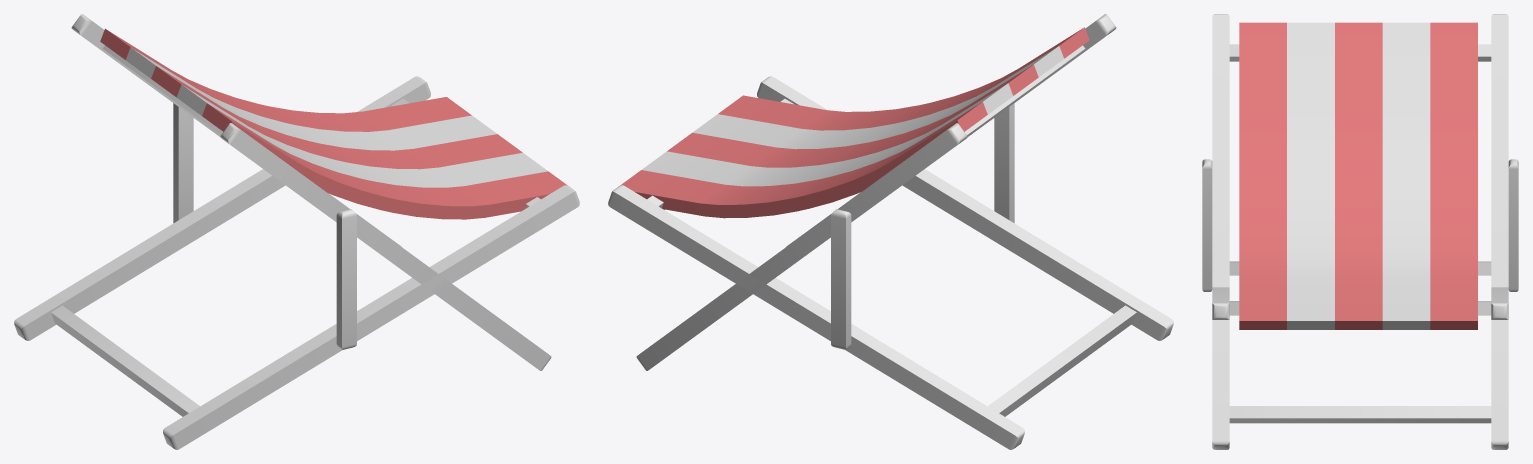
Rendered from Beach Chair.fbx.
3 views of the same model, side by side, from view 1: azimuth 30°, elevation 25°; view 2: azimuth 150°, elevation 25°; view 3: azimuth 270°, elevation 25° (orthographic). The views are drawn at different scales.
Parts seen in each view (by area): view 1: Cube.001, Plane; view 2: Cube.001, Plane; view 3: Plane, Cube.001.
Boxes of the visible parts, x1,y1,x2,y2 form: Cube.001: (14,14,579,449); Plane: (100,28,567,219); Cube.001: (608,14,1173,449); Plane: (620,27,1089,218); Plane: (1239,22,1477,329); Cube.001: (1202,14,1518,449).
Bounding box in the file's own units: 677 × 489 × 474.
